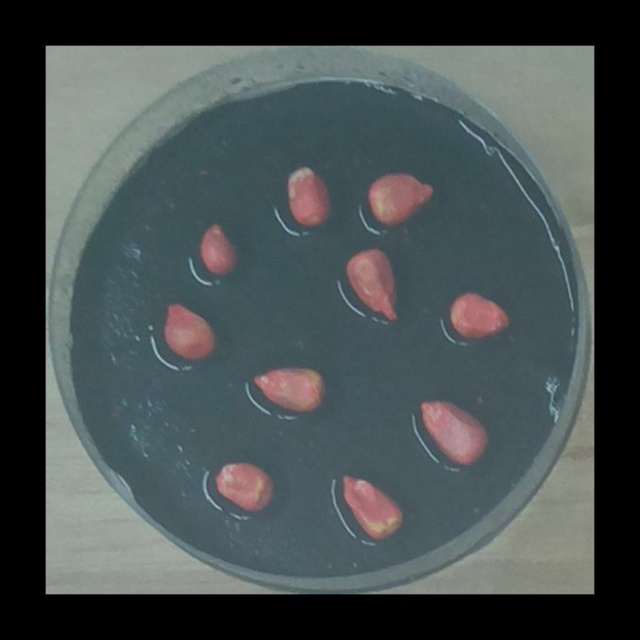Zea mays: (413, 392, 494, 471), (335, 466, 409, 544), (339, 240, 404, 326), (247, 359, 332, 419), (361, 167, 440, 231), (158, 296, 223, 366), (210, 454, 280, 517), (444, 284, 515, 345), (280, 158, 336, 235), (194, 217, 244, 280)
